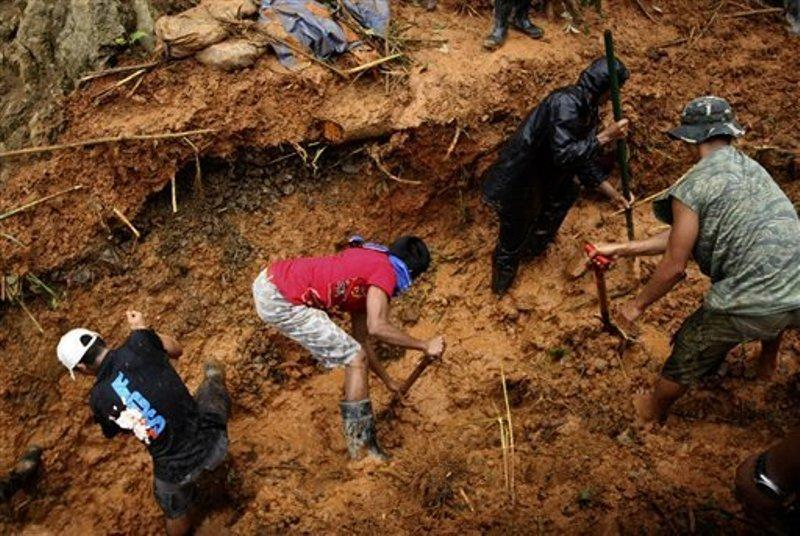MiningTool: (600, 26, 643, 245), (373, 343, 448, 437), (584, 238, 634, 354)
Person: (586, 95, 800, 414), (249, 233, 446, 470), (52, 306, 234, 536), (475, 51, 626, 328), (729, 408, 800, 536), (473, 1, 548, 50)
